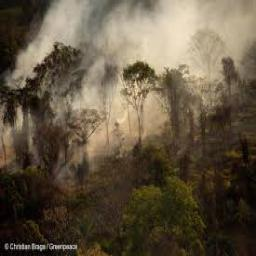Heavy smoke: (2, 0, 256, 171)
